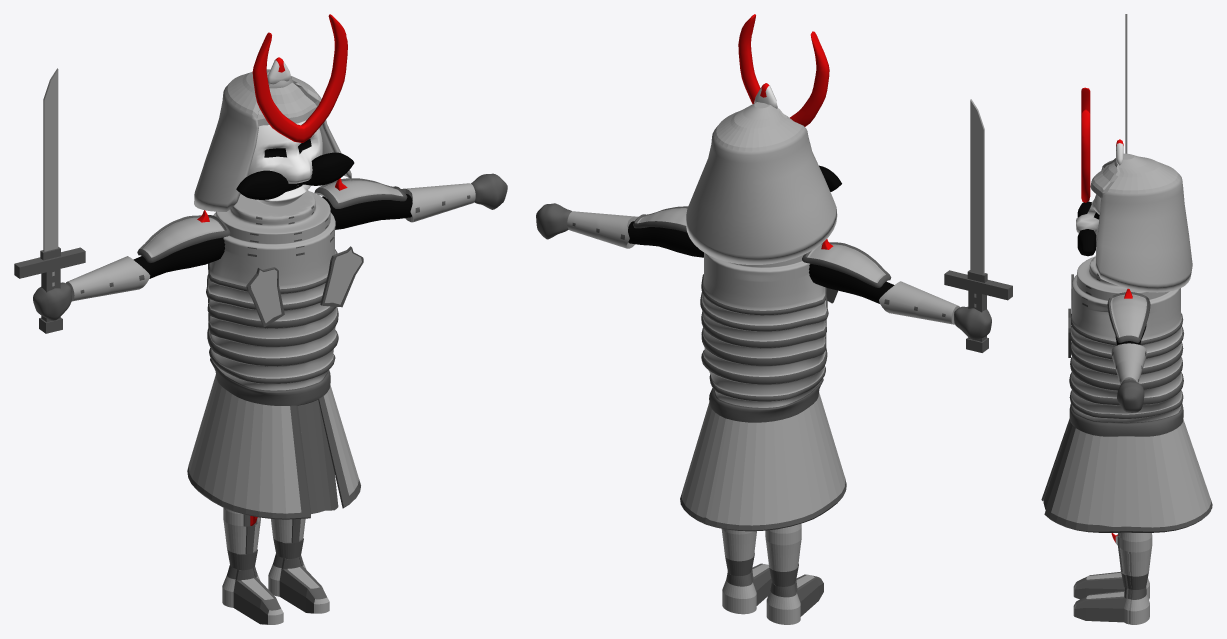
File: Ninja_NPC.fbx
3 renders of one model, left to right at view 1: azimuth 30°, elevation 25°; view 2: azimuth 150°, elevation 25°; view 3: azimuth 270°, elevation 25°, orthographic. The views are drawn at different scales.
Parts seen in each view (by area): view 1: polySurface38; view 2: polySurface38; view 3: polySurface38.
Boxes of the visible parts, x1=… form: polySurface38: x1=14, y1=14, x2=507, y2=624; polySurface38: x1=536, y1=14, x2=1012, y2=624; polySurface38: x1=1041, y1=14, x2=1212, y2=624.
Size of the model in its own units: 76.36 by 88.43 by 26.67.
